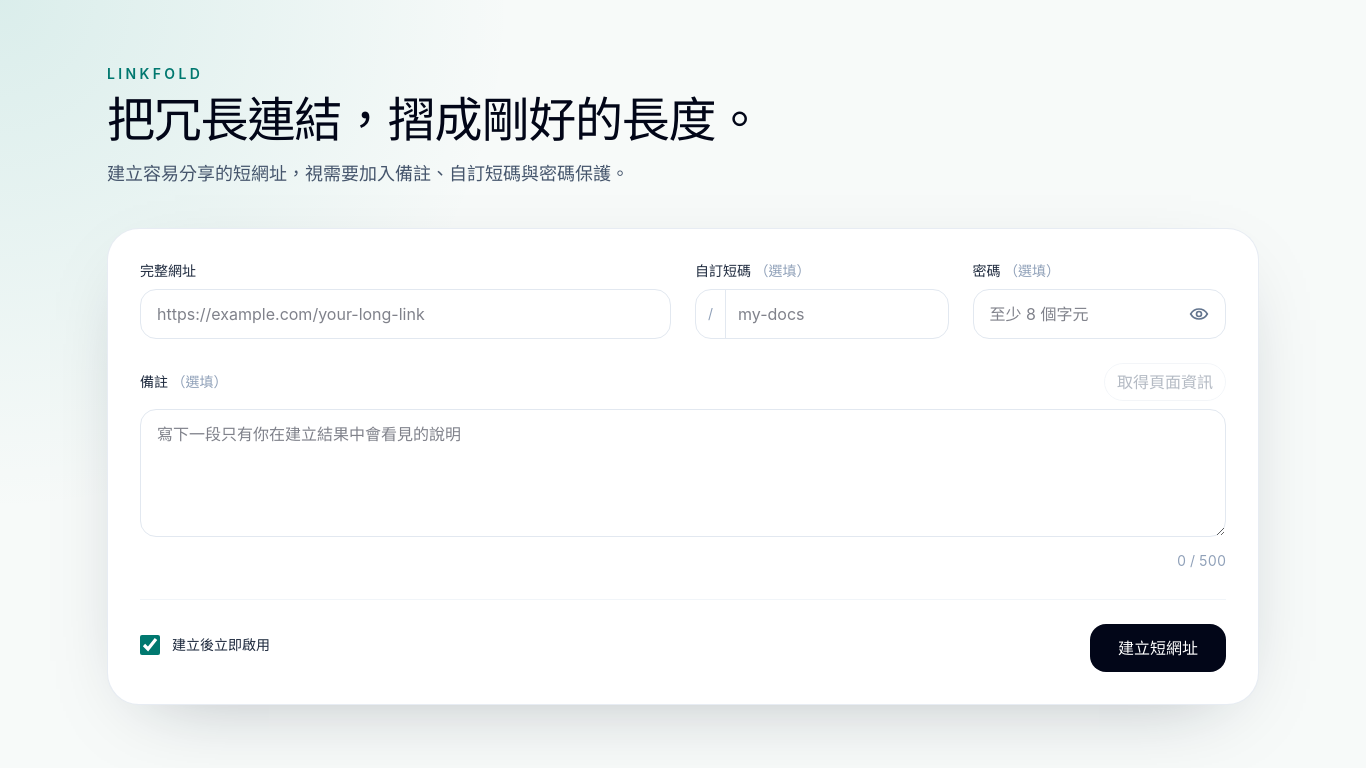
it: CreateLinkView 表單 › metadata 組合結果限制為 500 字元
Type "https://example.com/docs" into the field with id "original-url".
click(406, 314); type("https://example.com/docs")  # box [140,289,671,339]
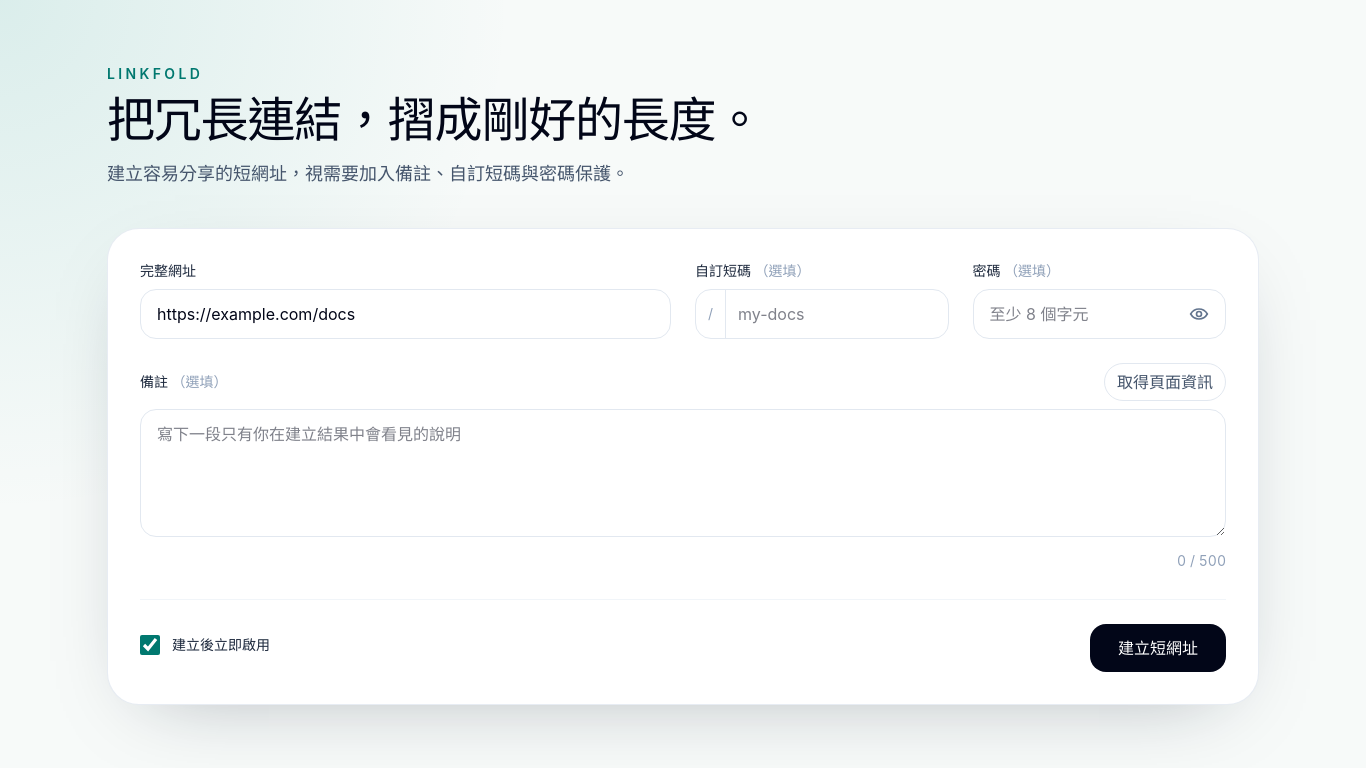
Click the button "取得頁面資訊".
click(1165, 382)  # box [1104,363,1226,401]
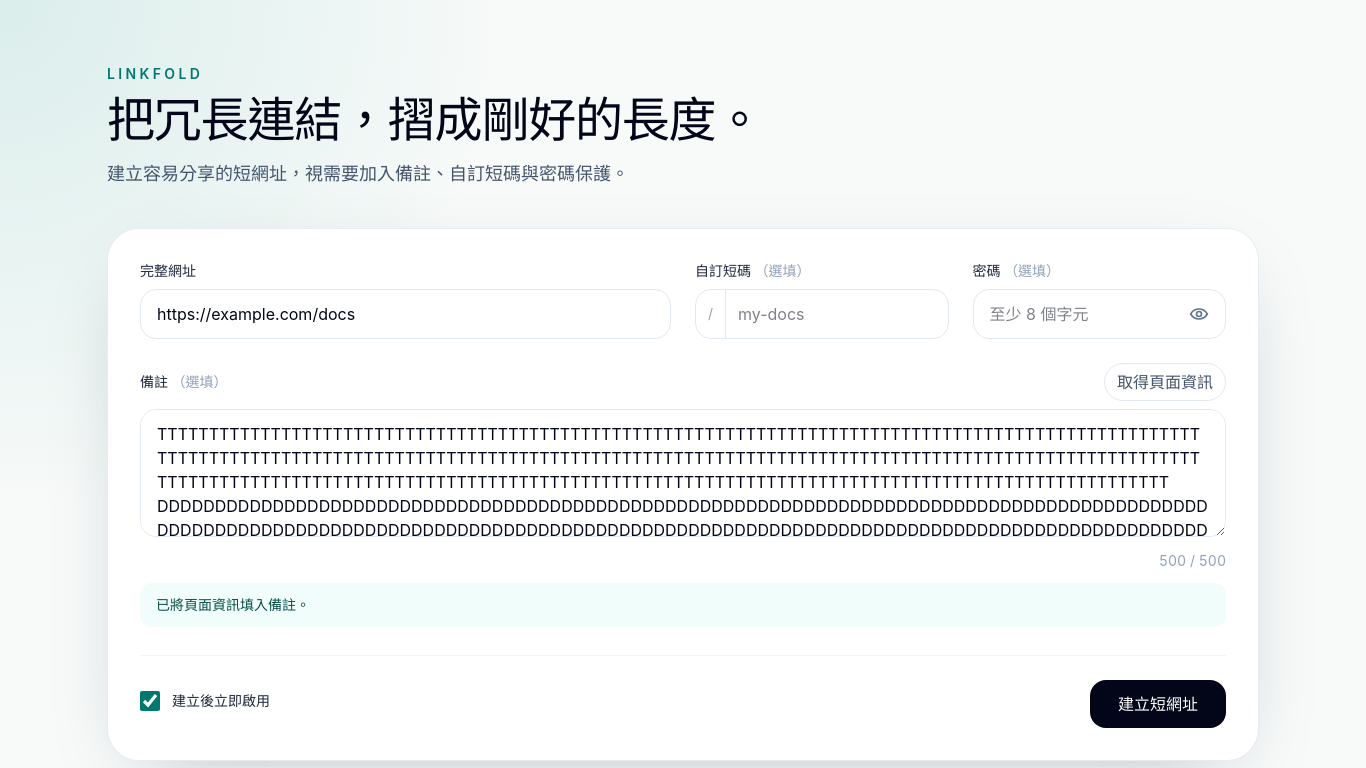
Expected: the text with test id "note-count" reads "500 / 500", [1159,552,1226,569]
